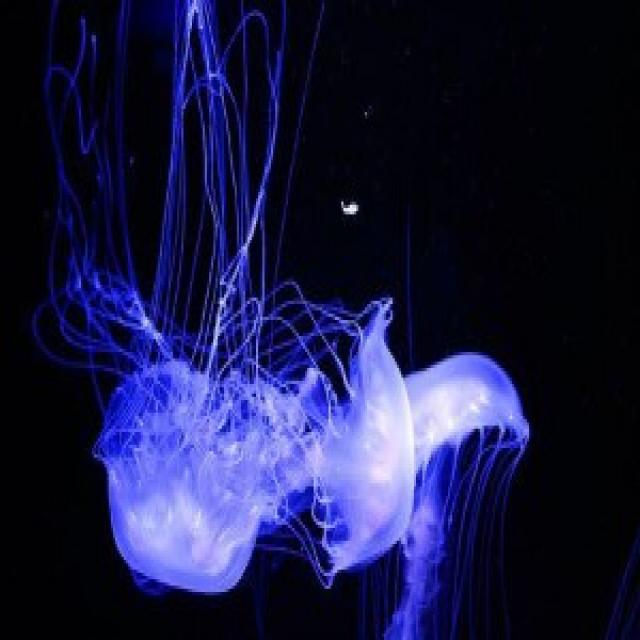Jellyfish: (36, 191, 264, 578), (274, 242, 431, 588), (422, 347, 526, 599)
